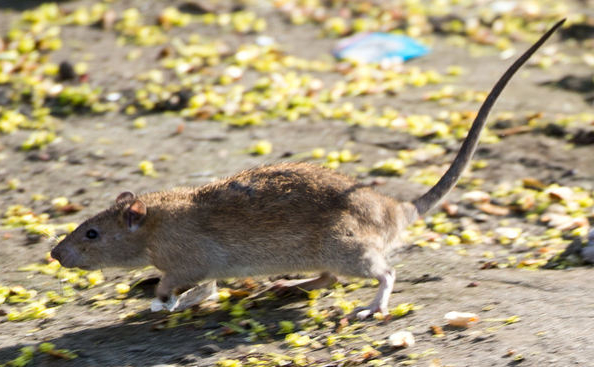rat: (36, 13, 580, 332)
